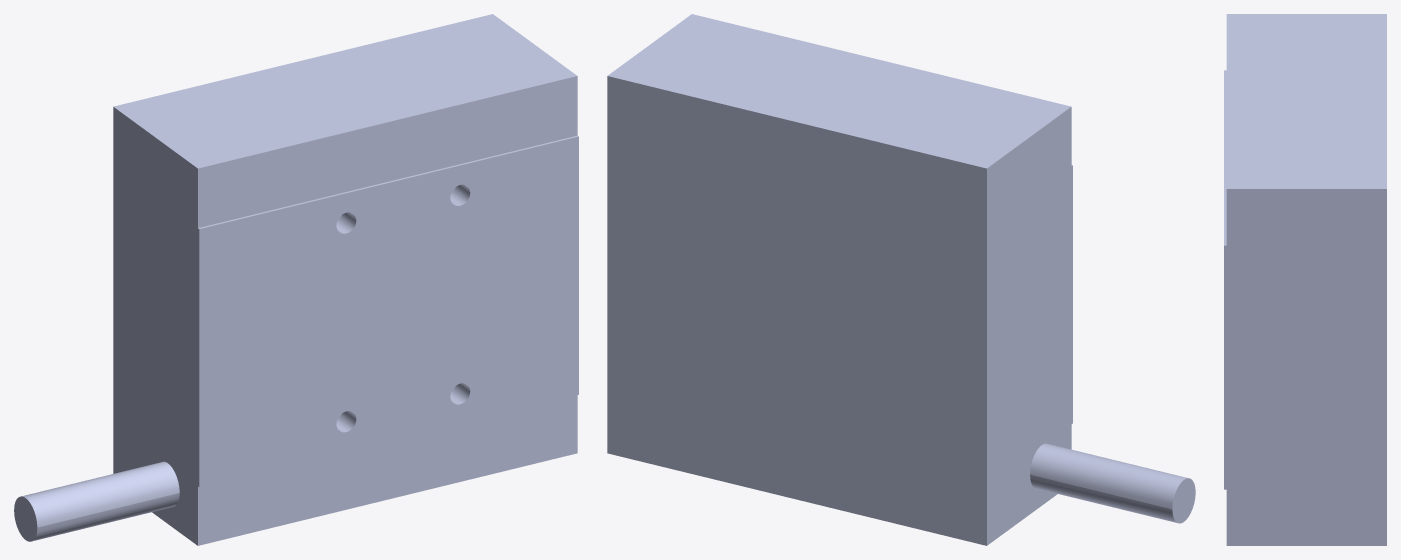
The model's file is MTB-3.glb.
3 views of the same model, side by side, from view 1: azimuth 30°, elevation 25°; view 2: azimuth 150°, elevation 25°; view 3: azimuth 270°, elevation 25° (orthographic). The views are drawn at different scales.
Parts seen in each view (by area): view 1: MTB-3_node_1; view 2: MTB-3_node_1; view 3: MTB-3_node_1.
Boxes of the visible parts, x1,y1,x2,y2 form: MTB-3_node_1: [14, 14, 578, 545]; MTB-3_node_1: [607, 14, 1195, 545]; MTB-3_node_1: [1224, 14, 1386, 545].
Bounding box in the file's own units: 110 × 76 × 31.4.
